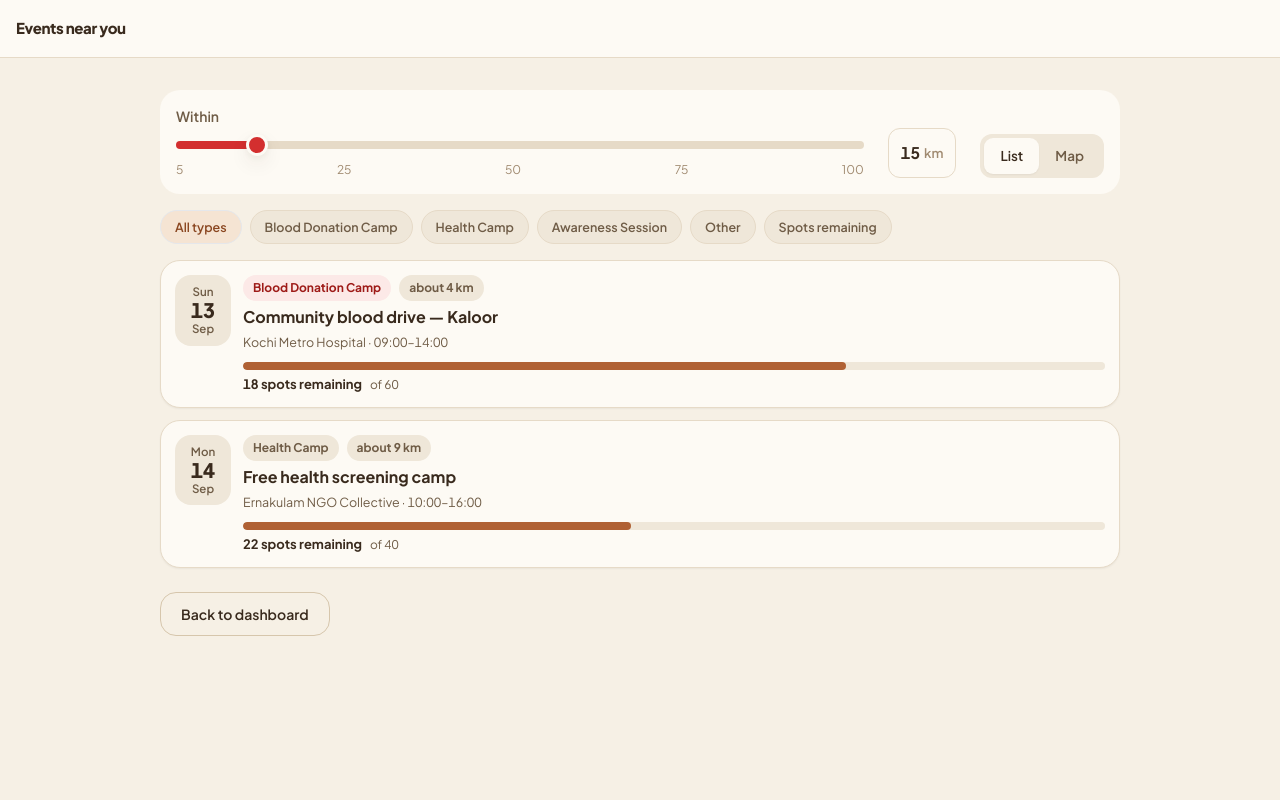
Test: EventDiscoveryPage › filters by event type when a type chip is clicked
The width and height of the screenshot is (1280, 800).
Expected: the heading "Community blood drive — Kaloor" is shown, [243,306,498,327]
What coordinates should you click on to do the following:
click the button "Health Camp"
I would click on:
 (475, 227)
Its box is [420,210,529,244].
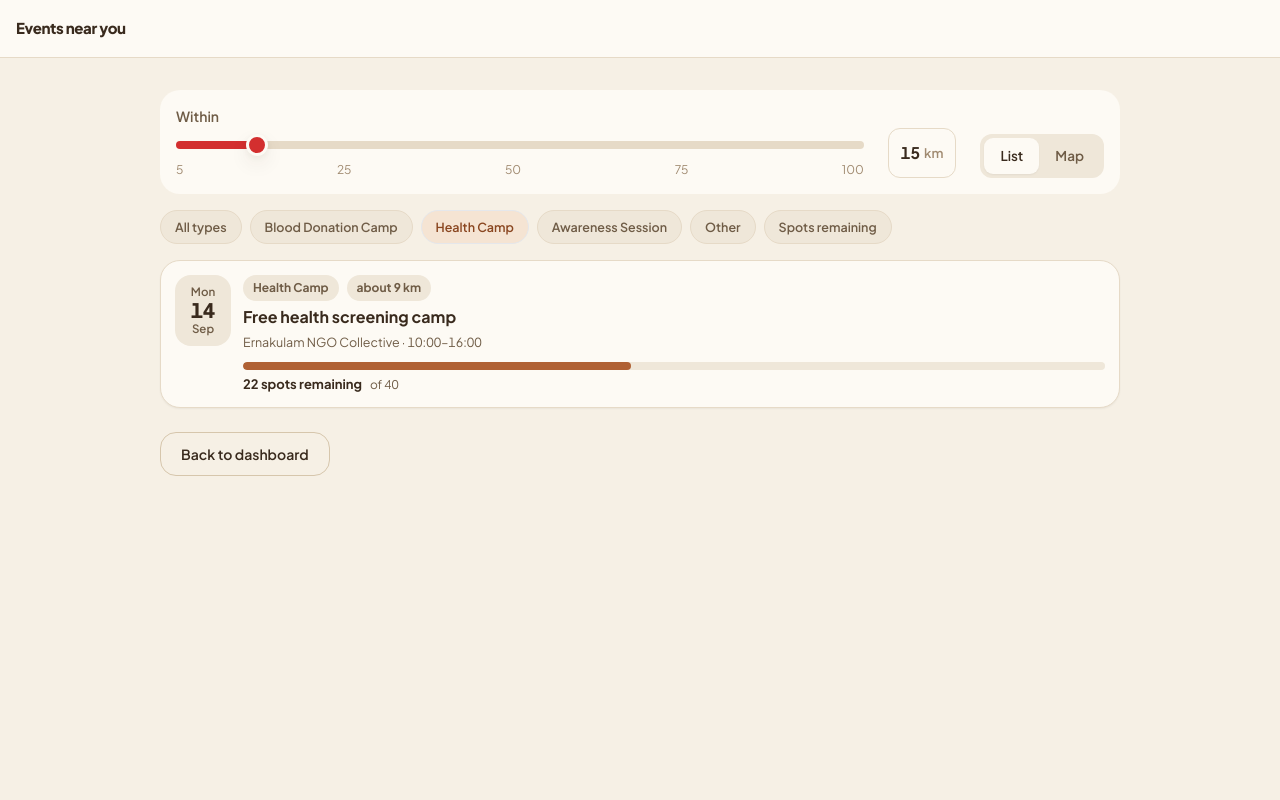
Expected: the button "Community blood drive — Kaloor" is gone
